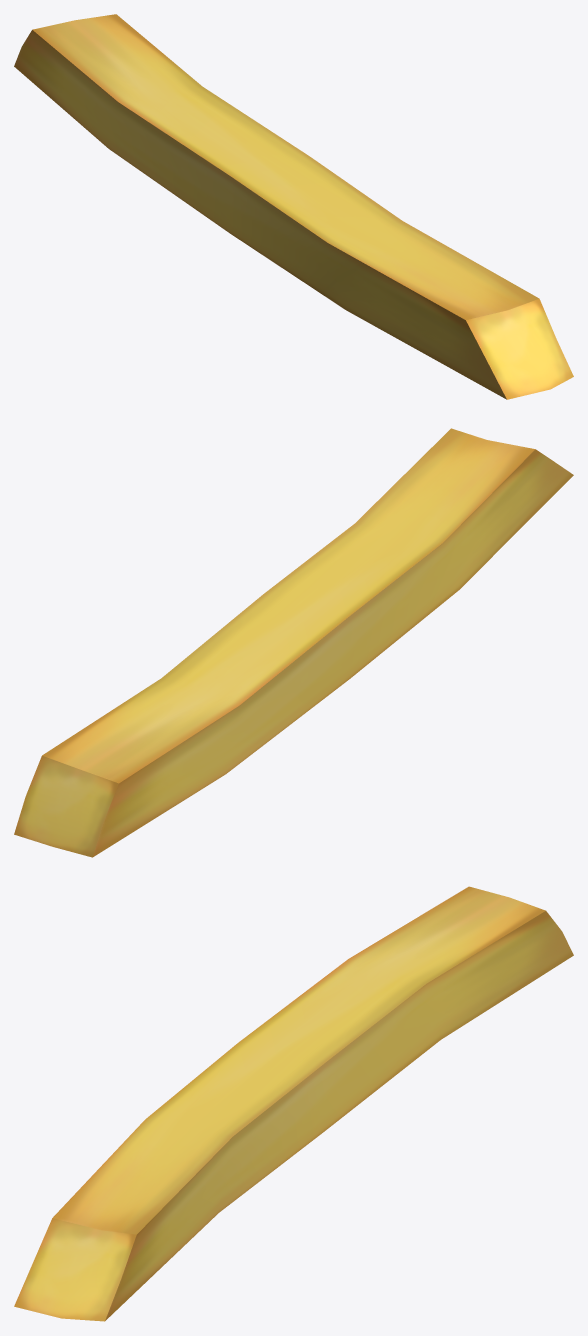
File: fry.fbx
3 views of the same model, one above another, from view 1: azimuth 30°, elevation 25°; view 2: azimuth 150°, elevation 25°; view 3: azimuth 330°, elevation 25° (orthographic). The views are drawn at different scales.
Visible parts, largest first — view 1: Box001; view 2: Box001; view 3: Box001.
Part boxes in pixels (x1,y1,x2,y2): Box001: (14,14,573,399); Box001: (14,428,573,857); Box001: (14,886,573,1321).
Size of the model in its own units: 27.42 by 14.02 by 190.
